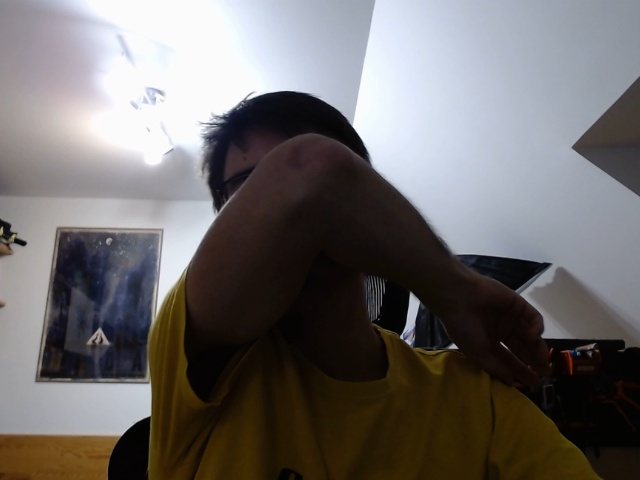NoMask: (185, 81, 392, 336)
